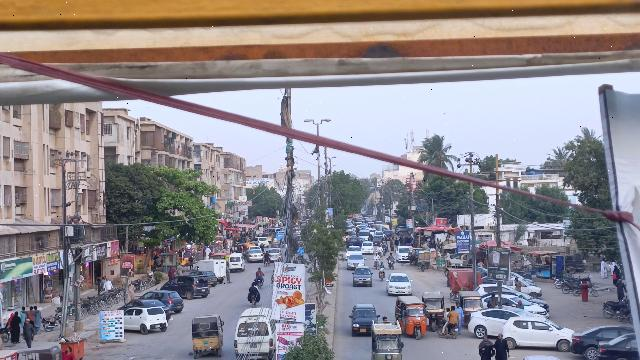Bike: (435, 318, 459, 341), (254, 277, 265, 289), (248, 294, 257, 307)
Car: (502, 315, 575, 352), (568, 320, 629, 359), (466, 307, 527, 338), (121, 306, 169, 335), (595, 329, 637, 360), (161, 274, 210, 300), (346, 302, 380, 337), (142, 289, 184, 312), (385, 271, 415, 298), (351, 264, 373, 288)
Person: (493, 331, 510, 360), (476, 334, 493, 360), (22, 316, 36, 347), (10, 310, 21, 344), (456, 302, 464, 334), (448, 306, 459, 325), (225, 262, 233, 284), (248, 283, 259, 295), (444, 307, 450, 323), (256, 269, 263, 279)
Rickshaw: (189, 314, 226, 359), (367, 320, 405, 360), (395, 295, 428, 339), (421, 288, 445, 332), (457, 289, 484, 326)
Truck: (195, 258, 227, 283)
Van: (232, 304, 276, 360)
